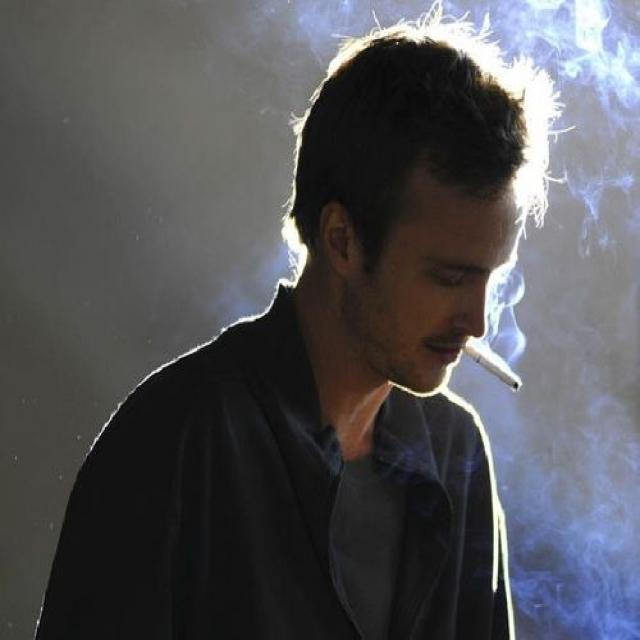cigarette: (462, 340, 534, 404)
